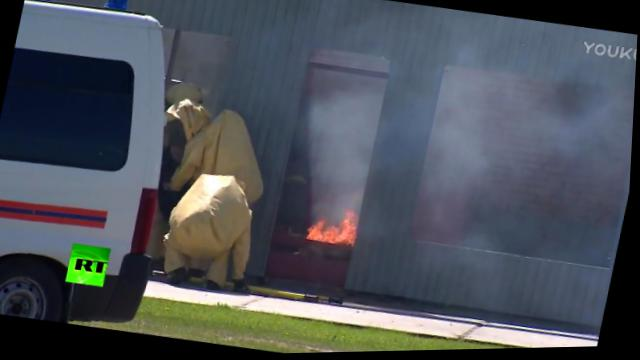fire: (337, 209, 362, 249), (310, 220, 331, 243), (321, 225, 344, 246)
